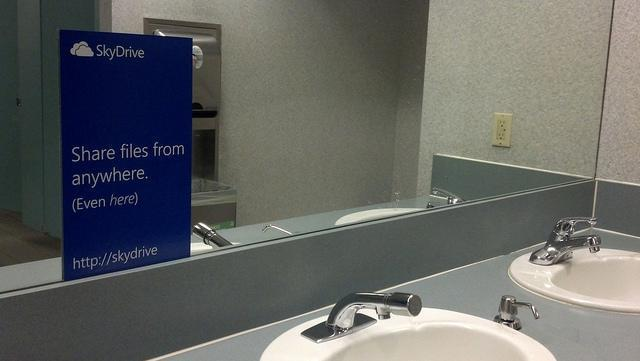Lavamanos: (253, 286, 559, 360), (508, 211, 639, 317)
